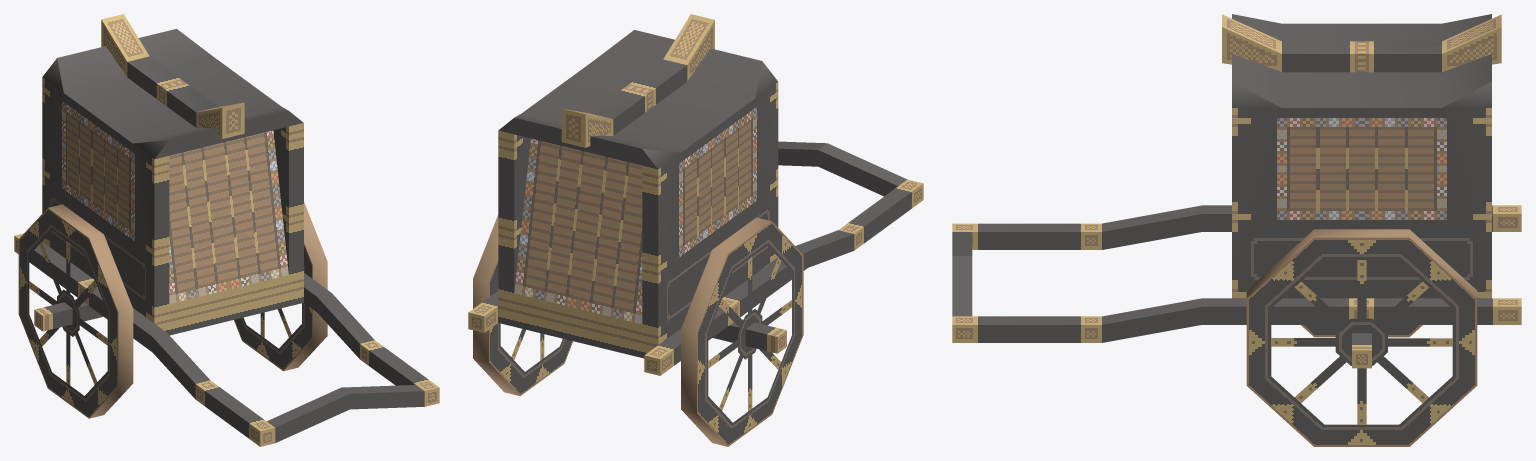
File: 02a2_Ox_Carriage.glb
3 views of the same model, side by side, from view 1: azimuth 30°, elevation 25°; view 2: azimuth 150°, elevation 25°; view 3: azimuth 270°, elevation 25° (orthographic). The views are drawn at different scales.
Parts seen in each view (by area): view 1: part_0; view 2: part_0; view 3: part_0.
Boxes of the visible parts, x1=… form: part_0: x1=14, y1=14, x2=439, y2=446; part_0: x1=468, y1=14, x2=923, y2=446; part_0: x1=952, y1=14, x2=1521, y2=446.
Size of the model in its own units: 0.252 by 0.2838 by 0.399.
Materials: 1 (1 with a texture image).
